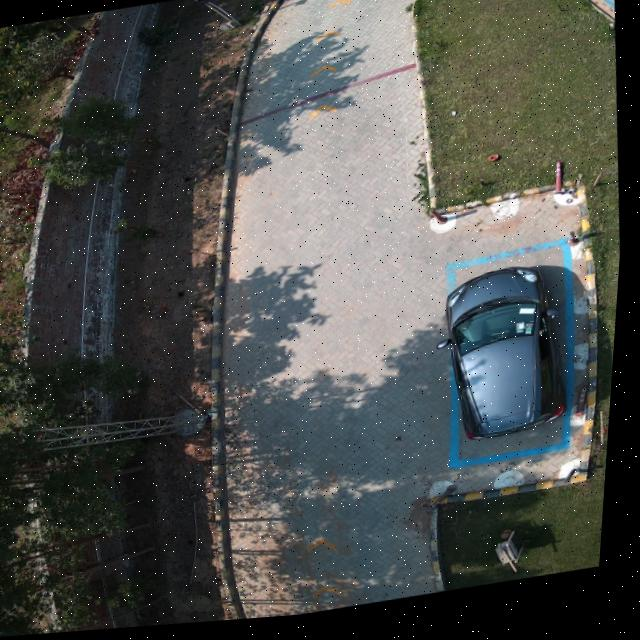car: (443, 274, 572, 446)
